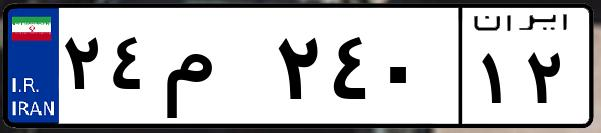0: (385, 28, 445, 110)
1: (475, 38, 525, 113)
2: (270, 28, 330, 110), (57, 26, 110, 100), (525, 38, 570, 115)
4: (330, 28, 385, 110), (110, 28, 158, 98)
م: (158, 20, 270, 120)
